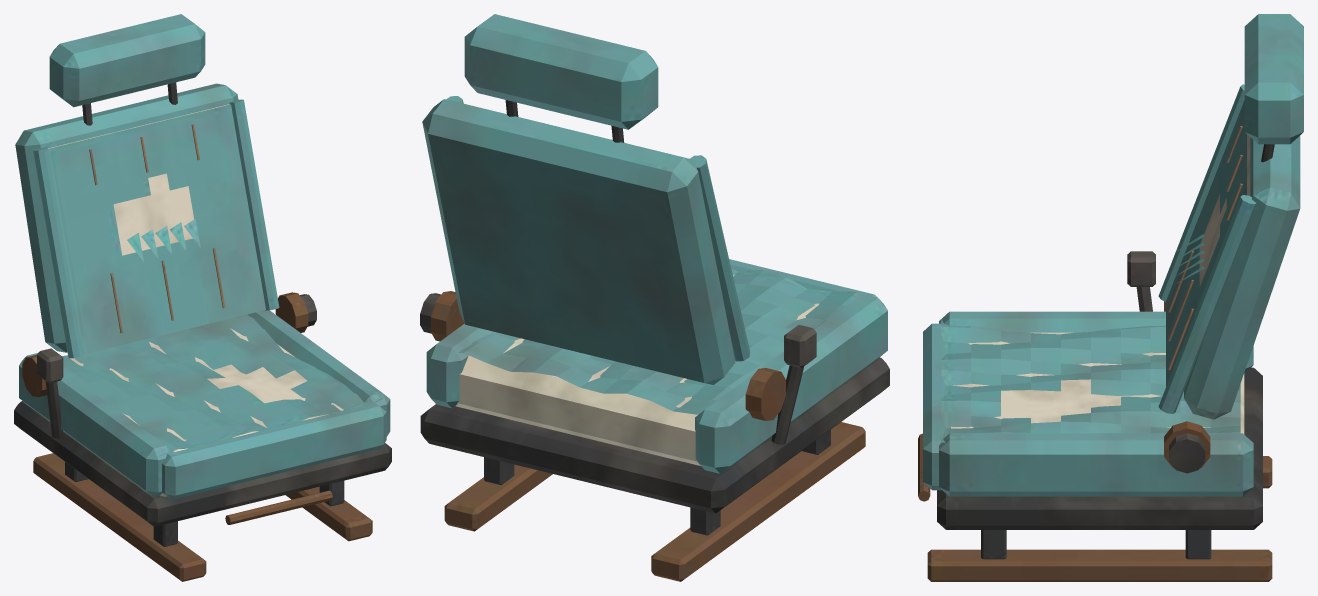
The model's file is JV18_torn_car_seats_v1.glb.
3 renders of one model, left to right at view 1: azimuth 30°, elevation 25°; view 2: azimuth 150°, elevation 25°; view 3: azimuth 270°, elevation 25°, orthographic. The views are drawn at different scales.
Visible parts, largest first — view 1: Rusty floor runner; view 2: Rusty floor runner; view 3: Rusty floor runner.
Part boxes in pixels (x1,y1,x2,y2): Rusty floor runner: (14,14,391,581); Rusty floor runner: (420,14,889,581); Rusty floor runner: (918,14,1303,581).
Size of the model in its own units: 0.505 by 0.7 by 0.509.
7 materials, 7 textured.
